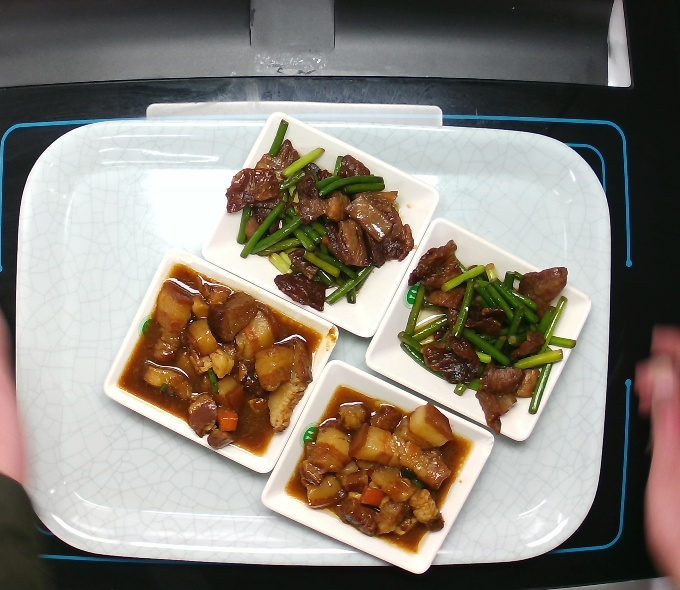wcq-HongShaoRou: (137, 274, 319, 452), (290, 391, 456, 546)
wcq-SuanMiaoChaoRou: (218, 116, 418, 312), (394, 236, 579, 437)
